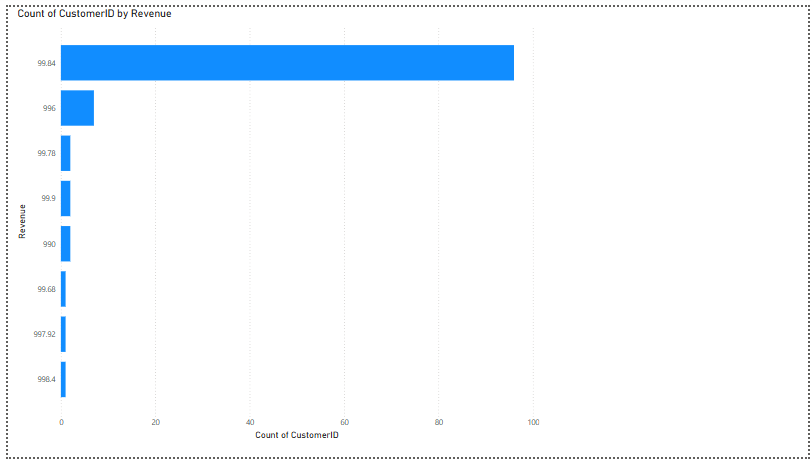

This screenshot's page, from the dashboard's own definition file:
{"tool":"powerbi","page":{"name":"Q4","canvas":[1280,720],"ordinal":3},"visuals":[{"type":"clusteredBarChart","fields":{"Y":["CountNonNull(Online Retail.CustomerID)"],"Category":["Online Retail.Revenue"]},"box":[10,0,845,697.5],"z":0}]}

Visuals, with their boxes in screenshot pixels (x1, y1, x2, y2), scaled from the page's 1280x720 canvas onto the 812x463 screenshot:
clusteredBarChart - CountNonNull(Online Retail.CustomerID) x Online Retail.Revenue: locate(6, 0, 542, 449)
